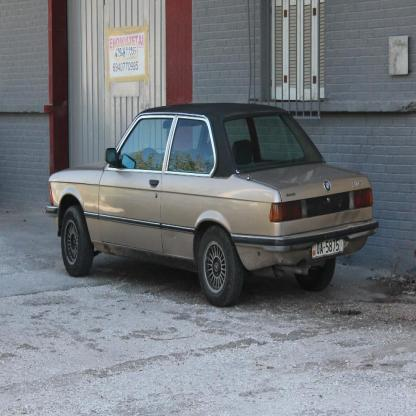Car: (44, 103, 380, 308)
